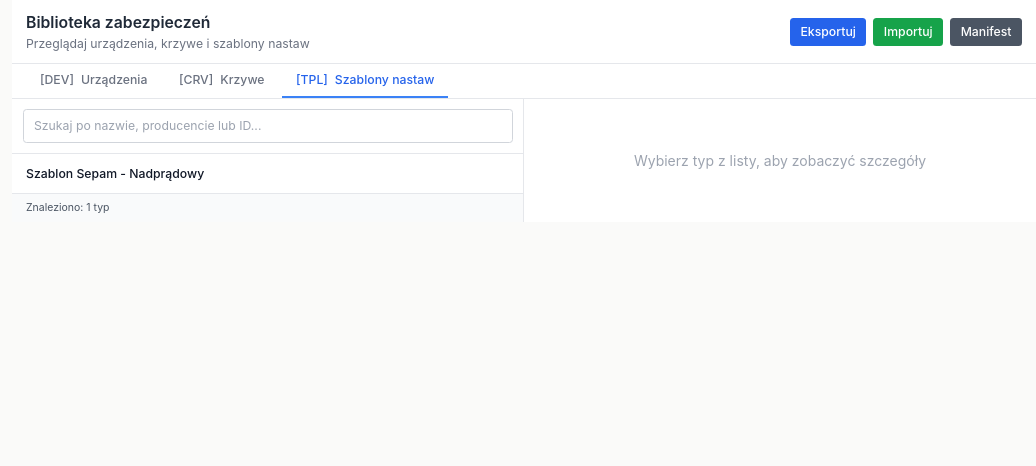
Test: ProtectionLibraryBrowser › displays template setting fields correctly
This screenshot has width=1036, height=466.
Check: the text "Szablon Sepam - Nadprądowy" is shown, box [26,166,204,180]
Click the button "Szablon Sepam - Nadprądowy". click: (115, 173)
box: [12,154,523,192]
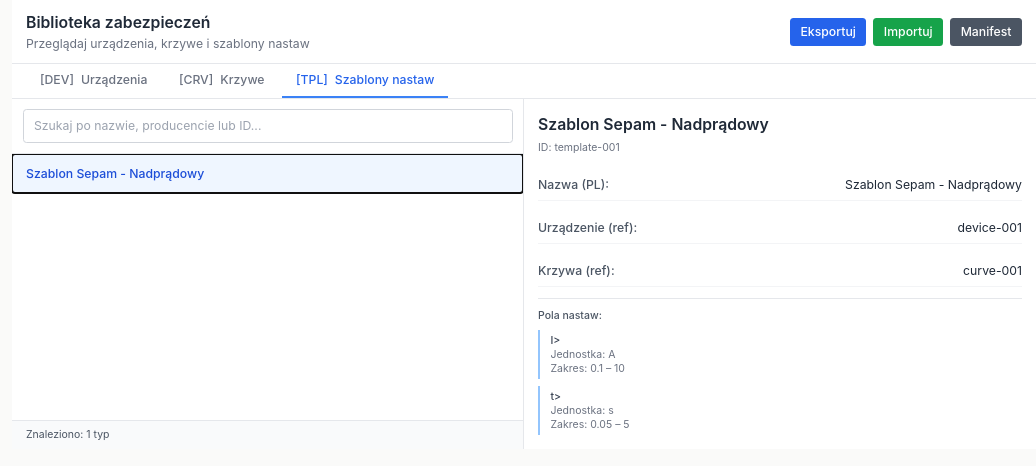
Check: the text "Pola nastaw:" is shown, box [538,309,602,322]
Check: the text "I>" is shown, box [550,334,560,346]
Check: the text "Jednostka: A" is shown, box [550,348,615,360]
